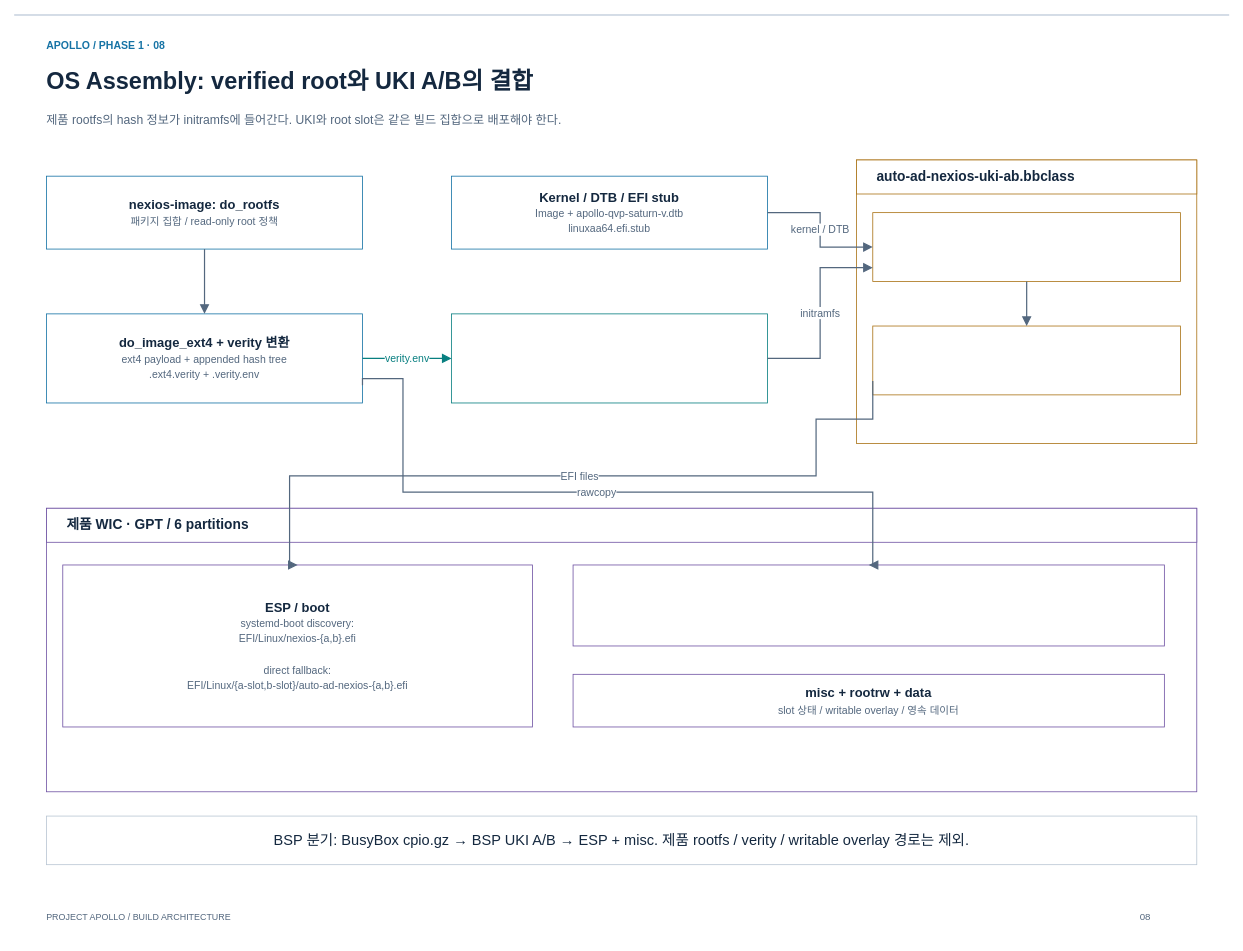
Image size: 1243x951. Some labels were removed from this diagram. Each missing label, with the box of its shape:
do_uki / ukify kernel + initramfs + DTB + cmdline: (872, 212, 1181, 281)
nexios-initramfs-image dm-verity 도구 + .verity.env 포함 → cpio.gz: (451, 313, 767, 403)
rootro_a / rootro_b 동일 초기 .ext4.verity를 rawcopy 각 8 GiB / UKI cmdline으로 선택: (572, 564, 1164, 646)
UKI A / B + metadata root=PARTLABEL=rootro_a / rootro_b: (872, 325, 1181, 395)
